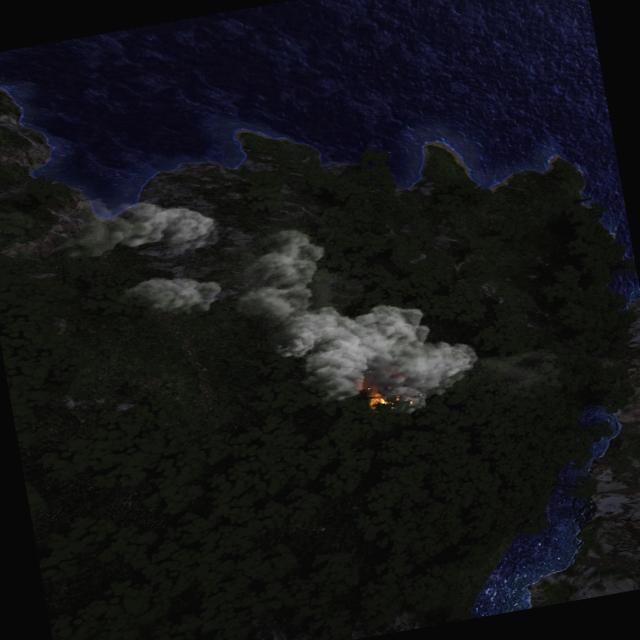fire: (361, 386, 394, 412)
smoke: (228, 201, 482, 435), (96, 188, 223, 268), (126, 266, 228, 324)
